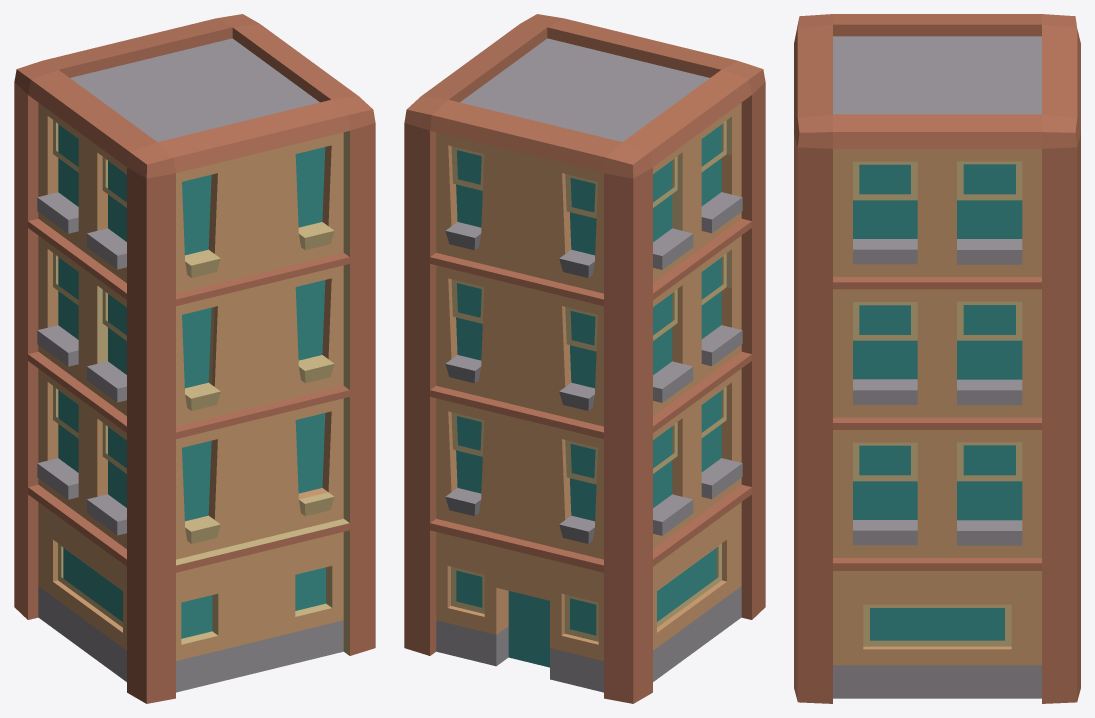
The model's file is prediodomeutio.fbx.
The picture shows the model from 3 angles, left to right: view 1: azimuth 30°, elevation 25°; view 2: azimuth 150°, elevation 25°; view 3: azimuth 270°, elevation 25°; orthographic projection. The views are drawn at different scales.
Parts seen in each view (by area): view 1: Cube; view 2: Cube; view 3: Cube.
Part boxes in pixels (x1,y1,x2,y2): Cube: [14, 14, 375, 703]; Cube: [404, 14, 765, 703]; Cube: [794, 14, 1080, 703].
Bounding box in the file's own units: 2240 × 4943 × 2240.
